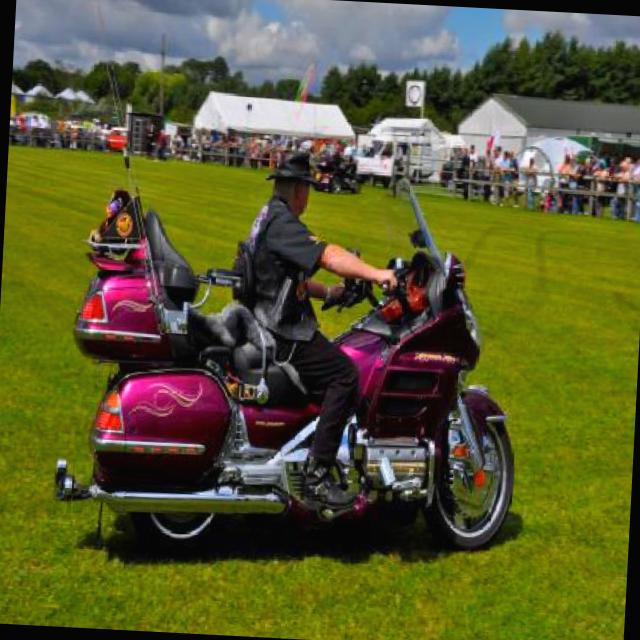Person: (224, 146, 410, 520)
